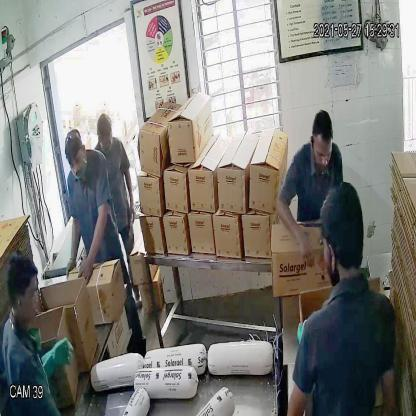no_goggles: (311, 144, 336, 164), (65, 152, 86, 172)
